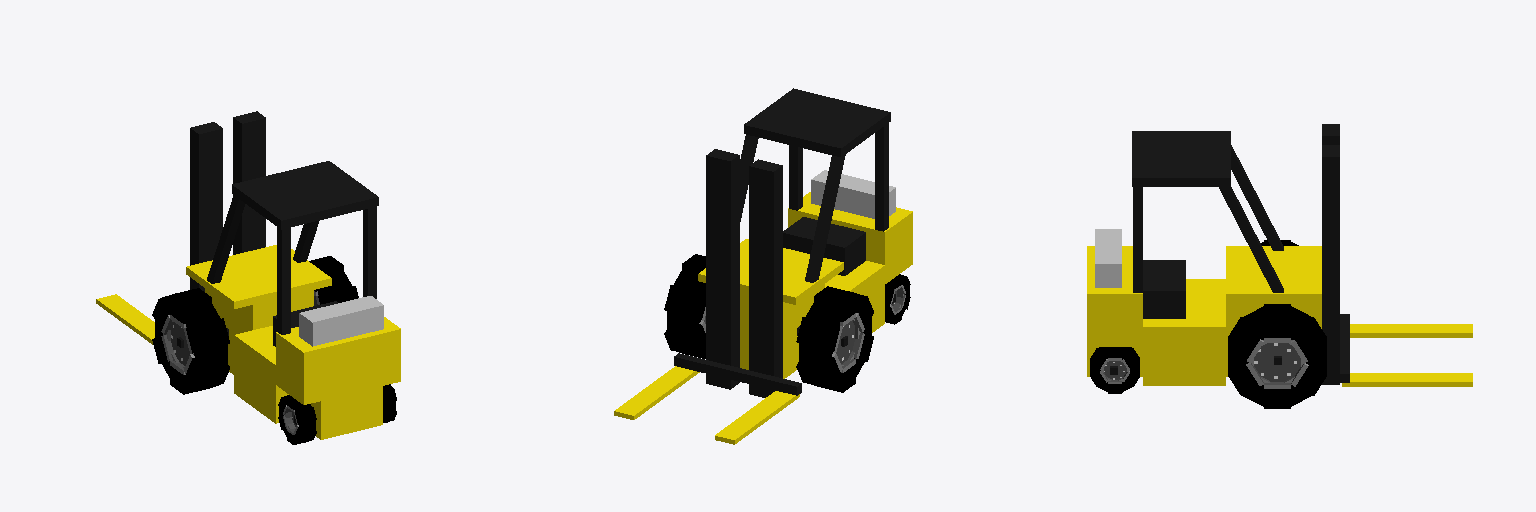
3 views of the same model, side by side, from view 1: azimuth 30°, elevation 25°; view 2: azimuth 150°, elevation 25°; view 3: azimuth 270°, elevation 25° (orthographic).
Visible parts, largest first — view 1: cube, backwheelcover, frontwheelcover, mainbase, Tank, backwheelwell, frontwheelwell; view 2: cube, backwheelcover, frontwheelcover, frontwheelwell, Tank, mainbase; view 3: cube, mainbase, backwheelcover, frontwheelcover, Rim, Tank, frontwheelwell.
Boxes of the visible parts, <box> form: cube: <box>96,111,396,444</box>; backwheelcover: <box>273,301,400,404</box>; frontwheelcover: <box>186,245,331,308</box>; mainbase: <box>234,326,288,423</box>; Tank: <box>299,296,383,346</box>; backwheelwell: <box>311,386,382,439</box>; frontwheelwell: <box>205,288,313,374</box>; cube: <box>614,88,910,444</box>; backwheelcover: <box>783,192,912,283</box>; frontwheelcover: <box>698,239,843,304</box>; frontwheelwell: <box>740,284,824,378</box>; Tank: <box>811,170,895,218</box>; mainbase: <box>825,261,884,332</box>; cube: <box>1090,124,1472,408</box>; mainbase: <box>1143,279,1225,385</box>; backwheelcover: <box>1087,246,1185,346</box>; frontwheelcover: <box>1226,246,1321,301</box>; Rim: <box>1104,343,1300,381</box>; Tank: <box>1095,229,1121,287</box>; frontwheelwell: <box>1226,302,1321,376</box>.
Bounding box in the file's own units: 7 × 9.56 × 14.56.
2 materials, 1 textured.